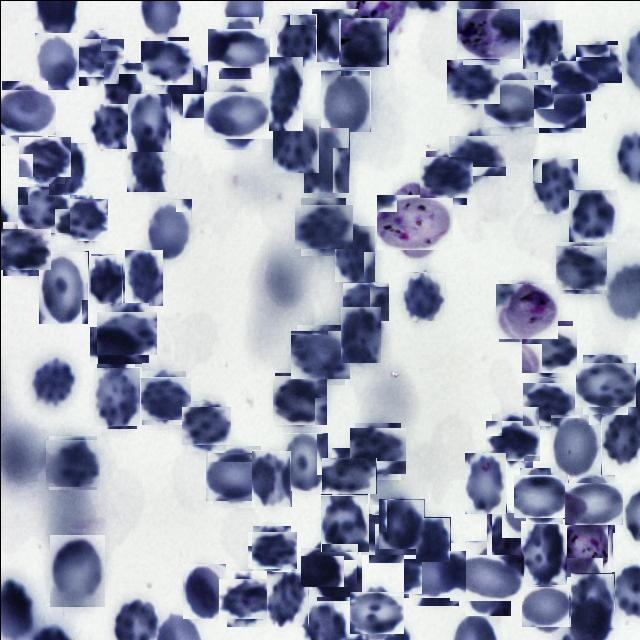red blood cell: (49, 534, 104, 606), (38, 250, 88, 323), (456, 548, 516, 608), (208, 85, 266, 144), (550, 413, 601, 477), (320, 69, 370, 131), (208, 449, 264, 504), (302, 126, 348, 192), (407, 546, 462, 601), (92, 366, 140, 428), (520, 520, 566, 584), (486, 76, 540, 130), (293, 327, 347, 381), (0, 84, 52, 140), (320, 494, 369, 552), (147, 198, 191, 261), (578, 358, 631, 410), (273, 374, 325, 426), (296, 200, 348, 252), (100, 306, 152, 358), (281, 432, 327, 490), (523, 322, 574, 374), (46, 437, 98, 488), (464, 451, 506, 513), (212, 22, 264, 72), (532, 157, 578, 213), (352, 425, 402, 476), (567, 478, 618, 528), (268, 56, 302, 130), (34, 32, 78, 89), (18, 184, 68, 234), (516, 470, 566, 520), (452, 130, 502, 180), (364, 508, 414, 558), (568, 189, 616, 241), (127, 93, 170, 151), (272, 118, 318, 172), (570, 572, 614, 628), (138, 372, 187, 422), (311, 8, 357, 61), (448, 57, 498, 105), (182, 563, 225, 618), (266, 570, 308, 626), (334, 224, 375, 281), (524, 379, 572, 427), (222, 574, 270, 622), (536, 82, 584, 130), (142, 38, 190, 86), (557, 243, 605, 291), (304, 542, 352, 590), (339, 17, 387, 65), (378, 498, 424, 548), (126, 135, 167, 191), (250, 449, 290, 506), (164, 64, 207, 117), (488, 416, 535, 464), (422, 153, 469, 201), (0, 224, 48, 271), (352, 588, 399, 636), (340, 306, 380, 362), (58, 195, 105, 242), (72, 34, 120, 80), (21, 134, 68, 180), (486, 511, 526, 565), (401, 271, 445, 320), (124, 249, 162, 305), (276, 13, 316, 66), (524, 582, 570, 628), (314, 552, 360, 598), (326, 452, 372, 498), (103, 62, 143, 113), (92, 322, 138, 366), (522, 20, 562, 70), (184, 403, 228, 448), (48, 142, 86, 194), (89, 104, 131, 150), (34, 357, 73, 405), (250, 528, 292, 572), (576, 42, 619, 84), (344, 280, 386, 323), (90, 253, 122, 303), (554, 56, 594, 96), (415, 516, 450, 561)
ring: (562, 512, 612, 576)
trophozoite: (382, 188, 448, 254), (496, 280, 556, 340), (459, 4, 516, 61)
